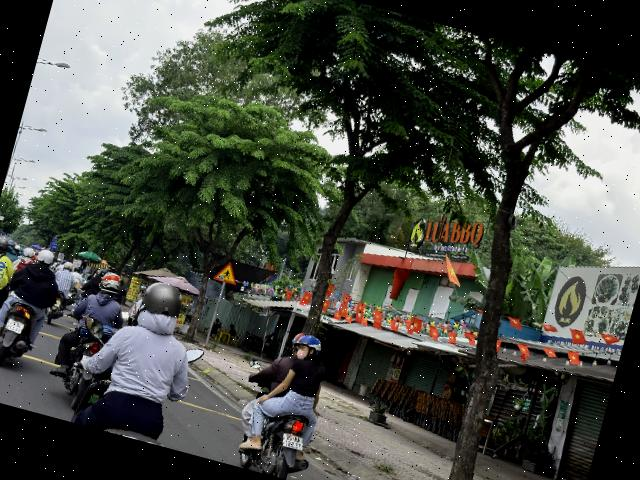duong-nguoi-di-bo-cat-ngang: (212, 259, 240, 285)
